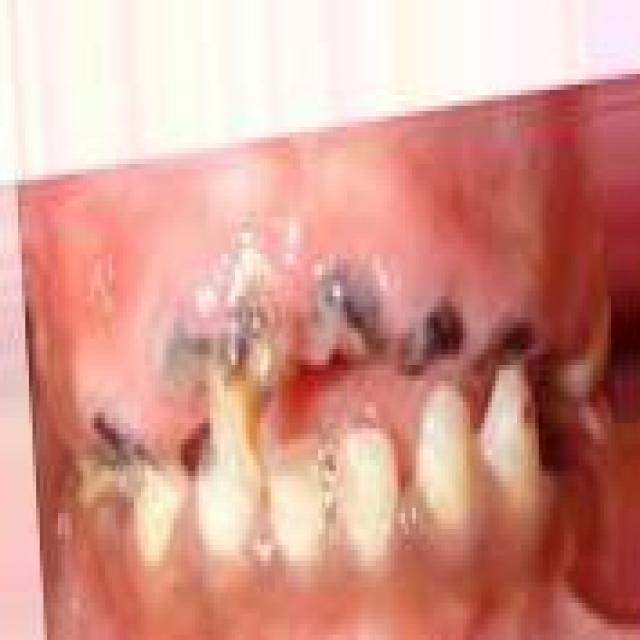caries: (204, 290, 292, 491), (91, 406, 176, 520), (300, 267, 384, 378), (396, 291, 471, 384), (485, 308, 543, 388)
